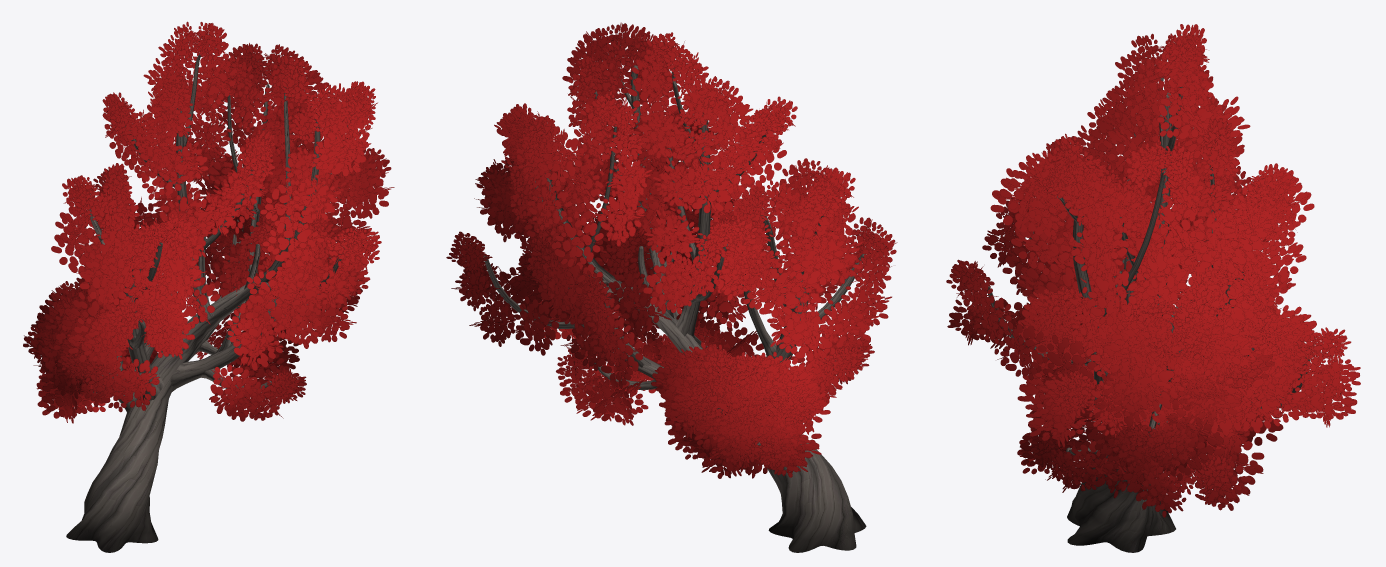
Rendered from TwistedTree_1.gltf.
3 views of the same model, side by side, from view 1: azimuth 30°, elevation 25°; view 2: azimuth 150°, elevation 25°; view 3: azimuth 270°, elevation 25° (orthographic). The views are drawn at different scales.
Parts seen in each view (by area): view 1: TwistedTree_1; view 2: TwistedTree_1; view 3: TwistedTree_1.
Part boxes in pixels (x1,y1,x2,y2): TwistedTree_1: (23,21,394,552); TwistedTree_1: (446,22,897,552); TwistedTree_1: (946,24,1360,552).
Size of the model in its own units: 13.52 by 16.73 by 11.55.
2 materials, 2 textured.
